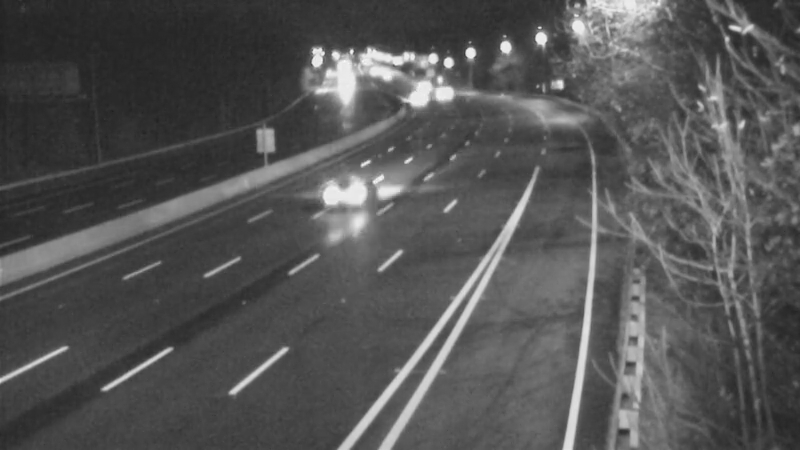vehicle: (318, 151, 398, 231), (361, 52, 411, 102), (398, 61, 448, 111), (414, 67, 464, 117), (393, 77, 443, 127), (320, 61, 370, 111)
